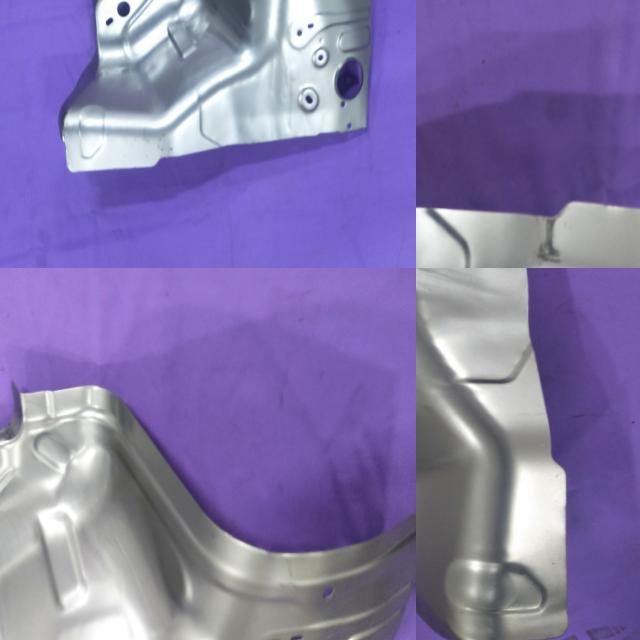Healthy: (0, 376, 416, 640), (416, 268, 579, 640), (416, 178, 640, 268)
rust: (120, 125, 187, 173)
